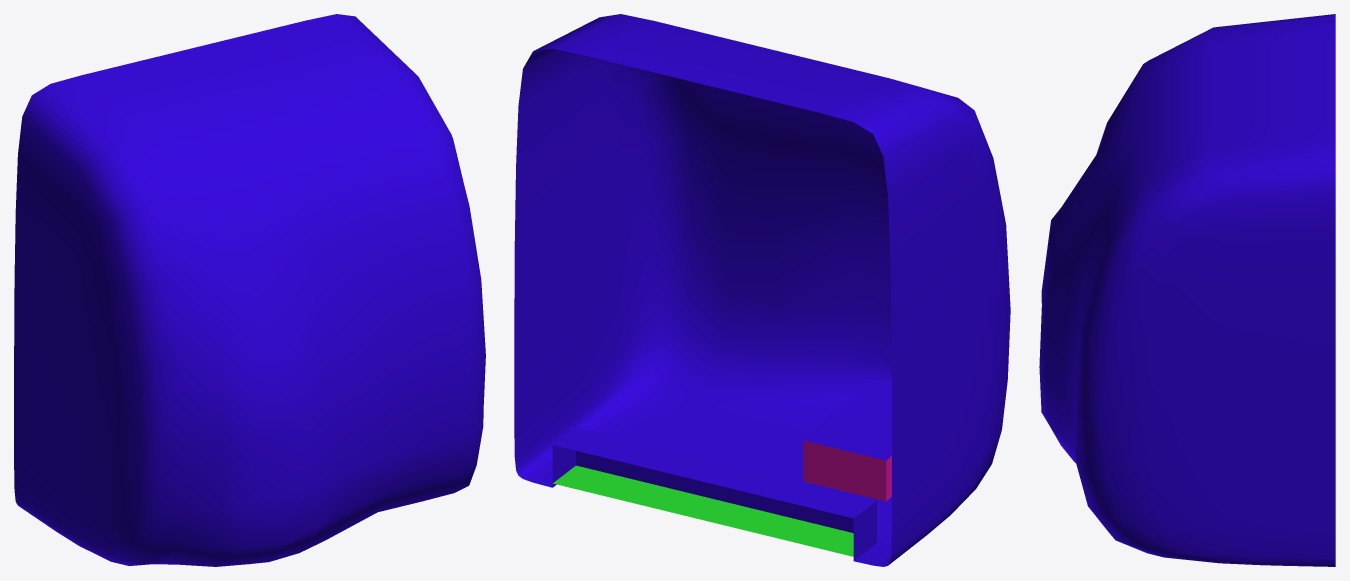
The model's file is M_drayer.dae.
3 renders of one model, left to right at view 1: azimuth 30°, elevation 25°; view 2: azimuth 150°, elevation 25°; view 3: azimuth 270°, elevation 25°, orthographic. The views are drawn at different scales.
Parts seen in each view (by area): view 1: drayer; view 2: drayer; view 3: drayer.
Part boxes in pixels (left/top/right/bottom): drayer: left=14, top=14, right=485, bottom=566; drayer: left=514, top=14, right=1010, bottom=566; drayer: left=1039, top=14, right=1335, bottom=566.
Bounding box in the file's own units: 1.41 × 1.57 × 1.04.
